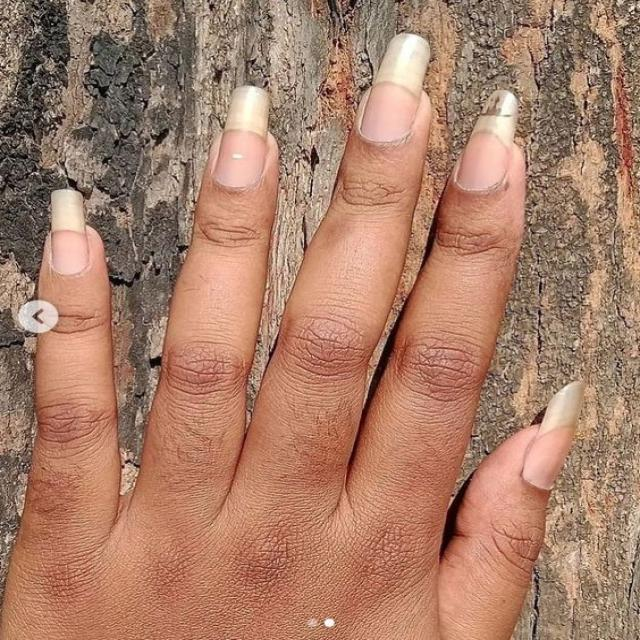Fingernail: (360, 35, 432, 143), (522, 382, 585, 490), (458, 91, 519, 191), (215, 86, 270, 188), (51, 189, 89, 275)
